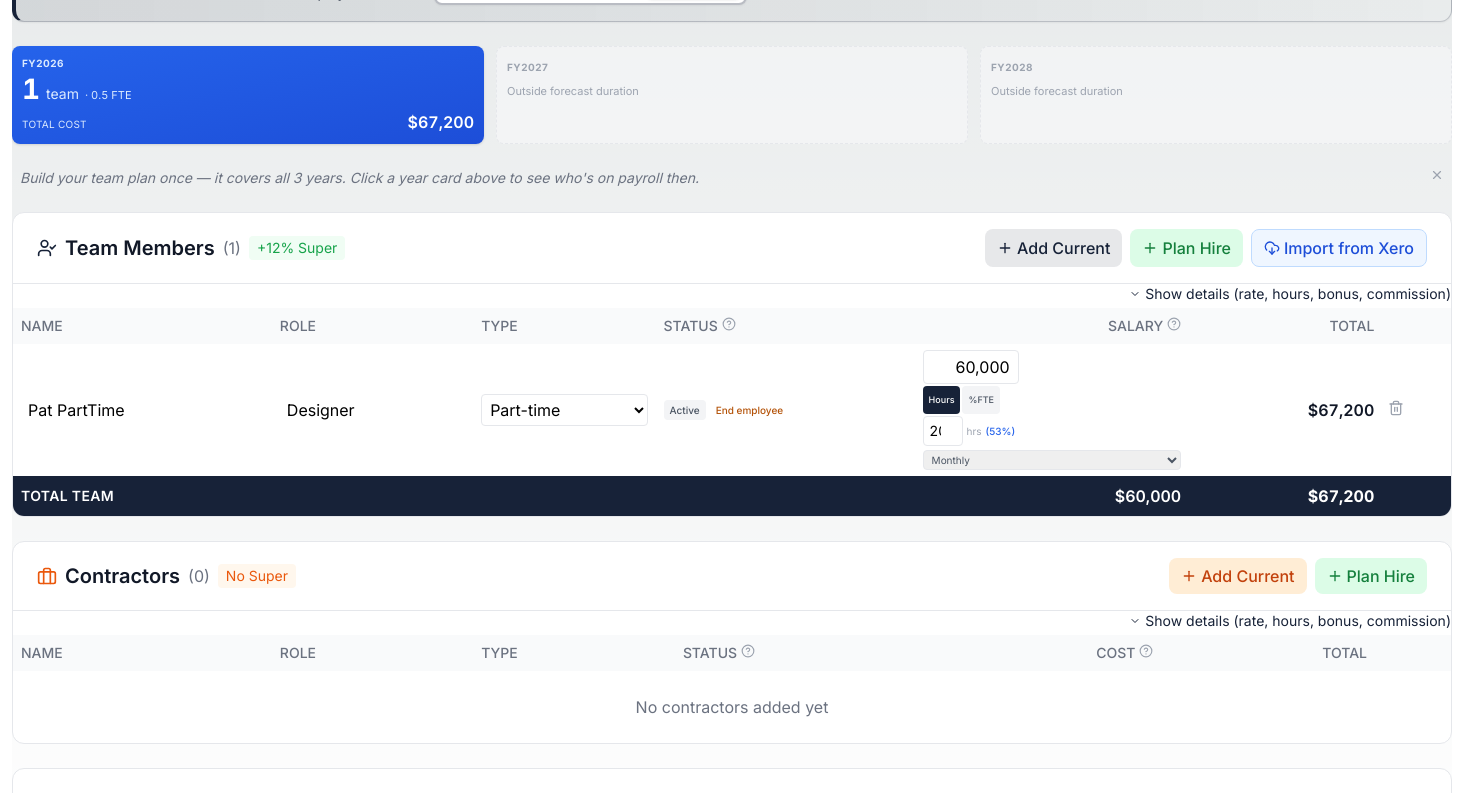
Test: UX-S4-02 — Step 4 PT/casual hours-or-FTE mode › Test 2: clicking %FTE toggle switches mode; input now shows the %FTE (53 for 20/38)
(page scrolled)
Step 1. Click the button with aria-label "FTE mode" → (981, 400), box x1=962 y1=386 x2=1000 y2=414
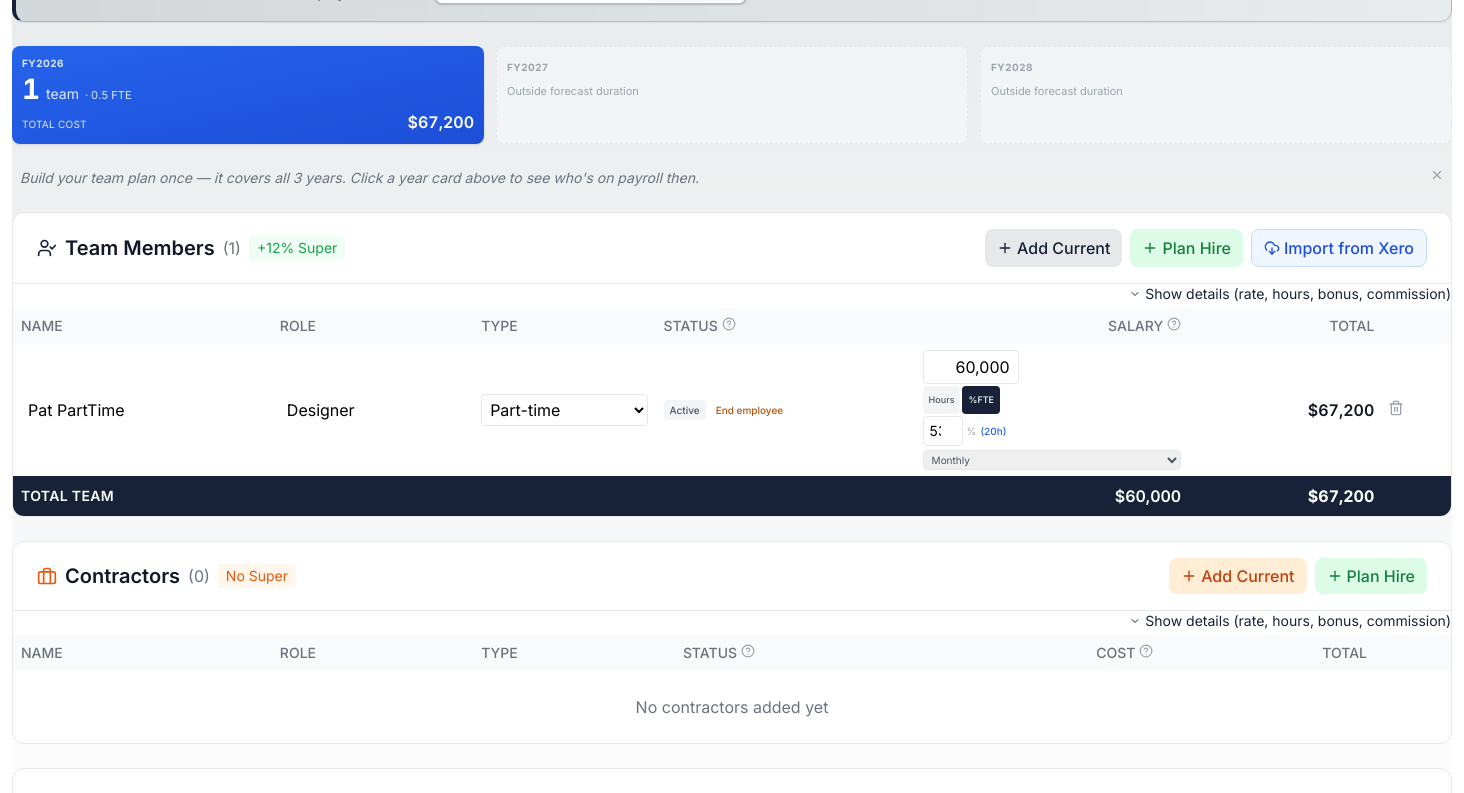
Expected: the 1st field is shown, x1=923 y1=350 x2=1019 y2=384
Expected: the number field holds "53", x1=923 y1=416 x2=963 y2=446
